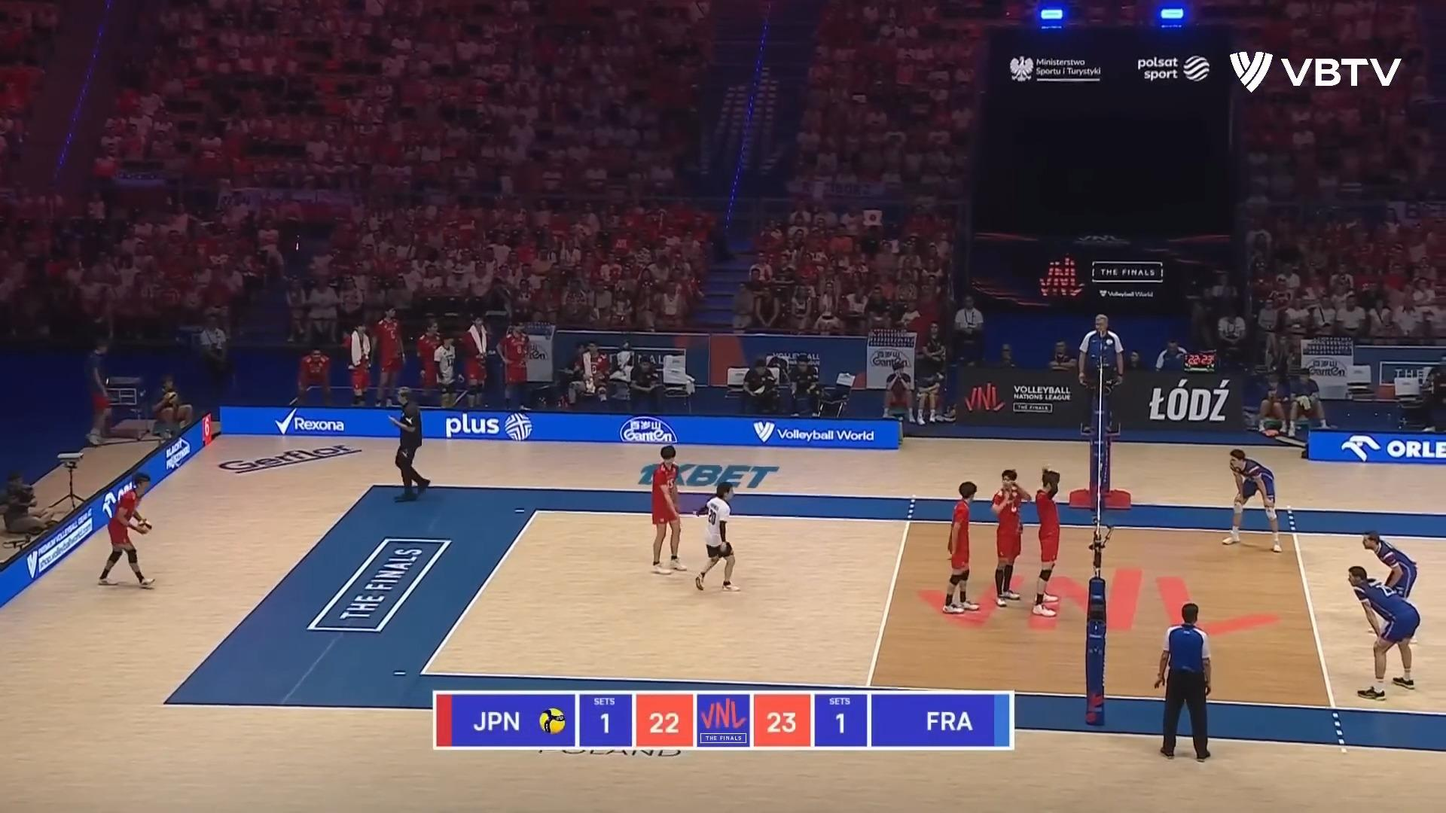ball: (136, 519, 153, 534)
